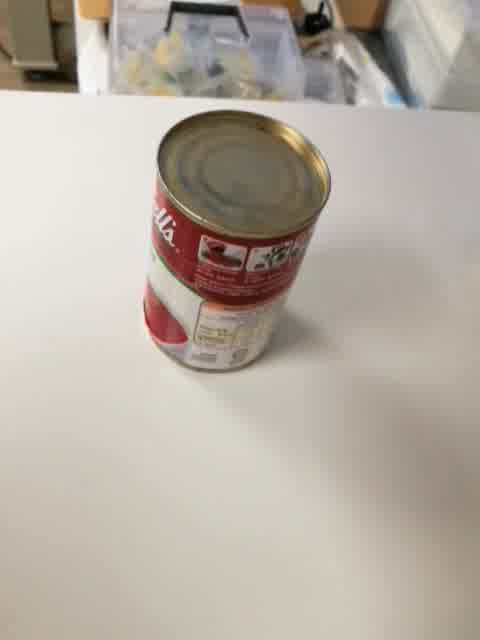tomatosoup: (141, 107, 335, 375)
